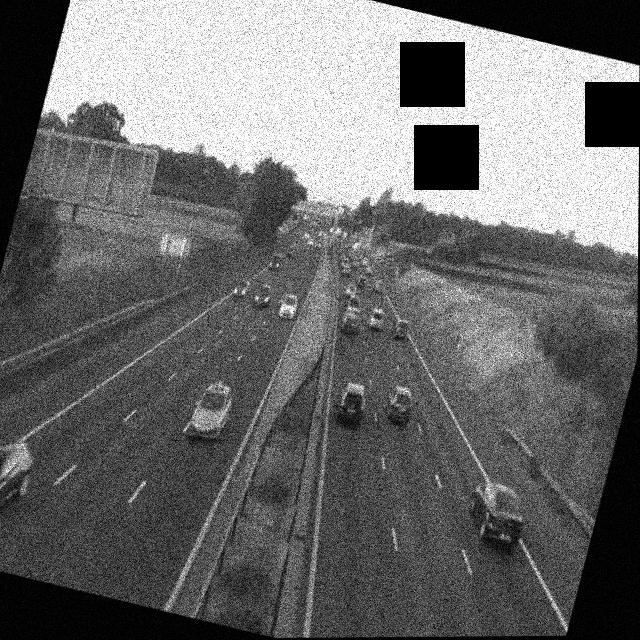car: (462, 478, 532, 552), (0, 427, 37, 543), (186, 377, 236, 443), (332, 380, 369, 427), (382, 382, 417, 425), (339, 306, 360, 335), (278, 291, 298, 320), (391, 316, 411, 341), (253, 283, 272, 309), (366, 310, 385, 335), (232, 278, 250, 301), (344, 287, 362, 308), (373, 278, 388, 296), (268, 252, 282, 270), (357, 272, 370, 289), (340, 260, 353, 276), (362, 259, 373, 273)
